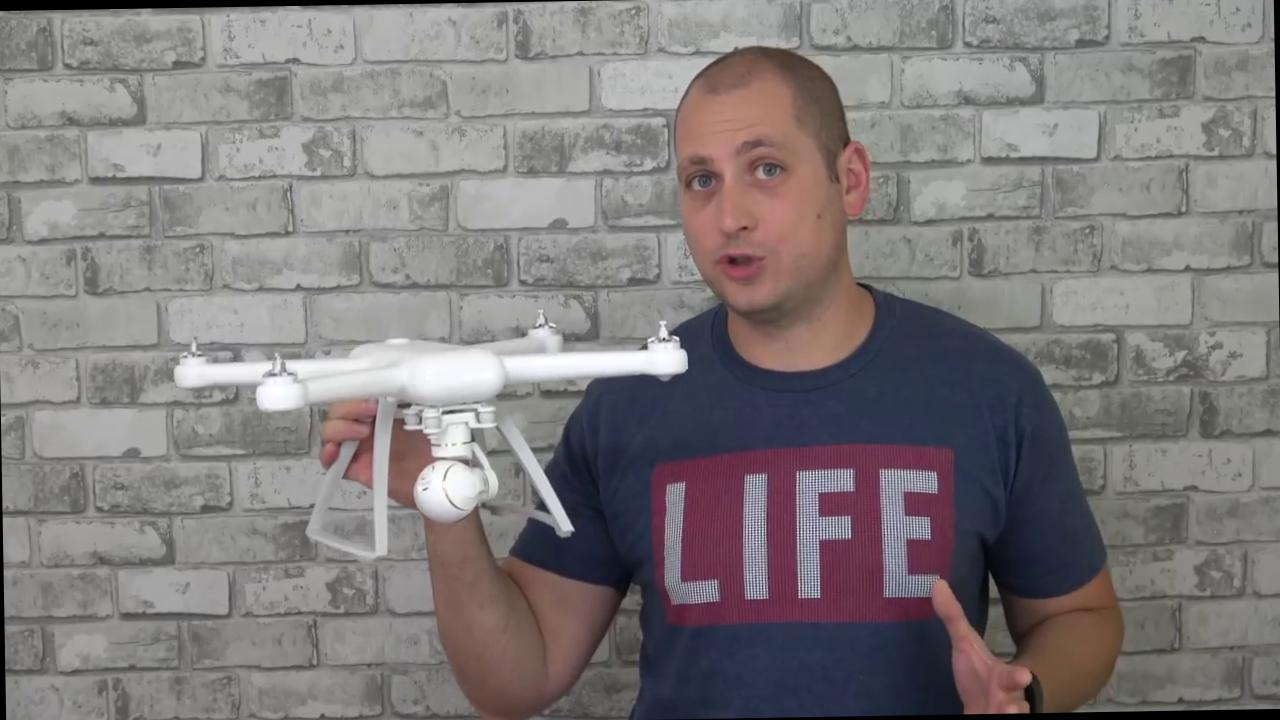drone: (158, 296, 700, 441)
